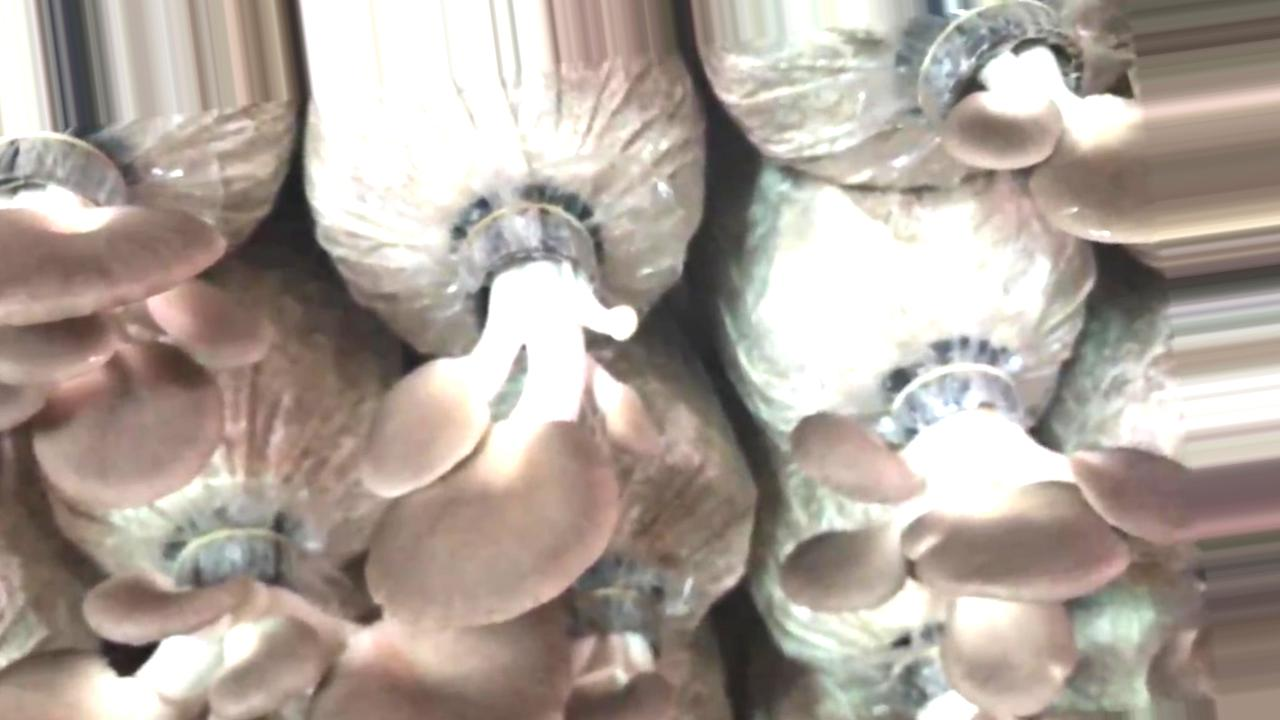nam: (773, 345, 1273, 720), (361, 199, 659, 631), (1, 518, 565, 720), (911, 14, 1275, 245), (564, 563, 691, 716)
